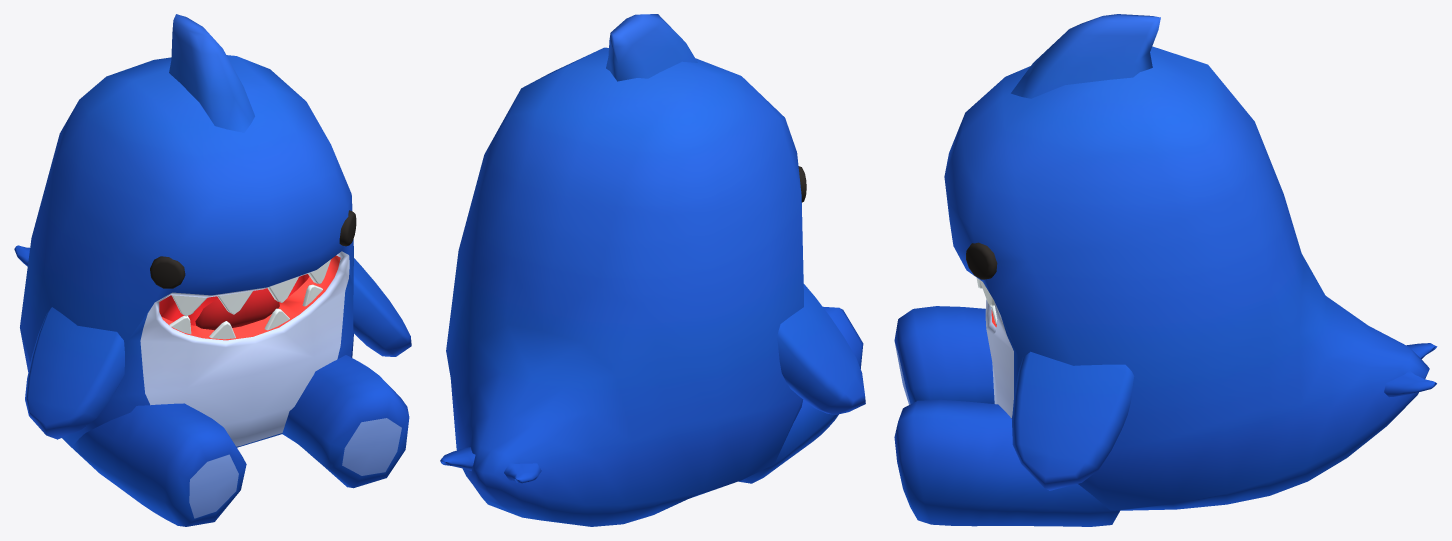
File: shark.glb
3 renders of one model, left to right at view 1: azimuth 30°, elevation 25°; view 2: azimuth 150°, elevation 25°; view 3: azimuth 270°, elevation 25°, orthographic. The views are drawn at different scales.
Visible parts, largest first — view 1: Shark_01; view 2: Shark_01; view 3: Shark_01.
Boxes of the visible parts, x1,y1,x2,y2 form: Shark_01: [14, 14, 411, 526]; Shark_01: [440, 14, 865, 526]; Shark_01: [894, 14, 1437, 526].
Bounding box in the file's own units: 0.4482 × 0.484 × 0.5171.
2 materials, 2 textured.
